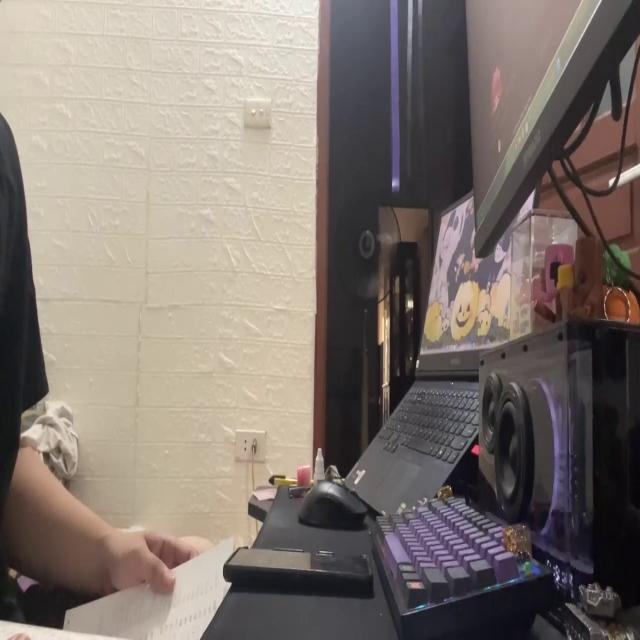book: (0, 533, 237, 640)
laptop: (335, 172, 542, 516), (464, 0, 640, 264)
phone: (224, 536, 376, 601)
student: (1, 108, 210, 640)
